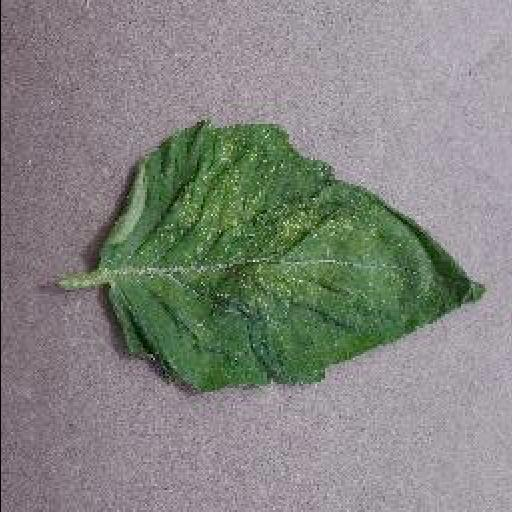disease_tomato: (93, 122, 487, 398)
